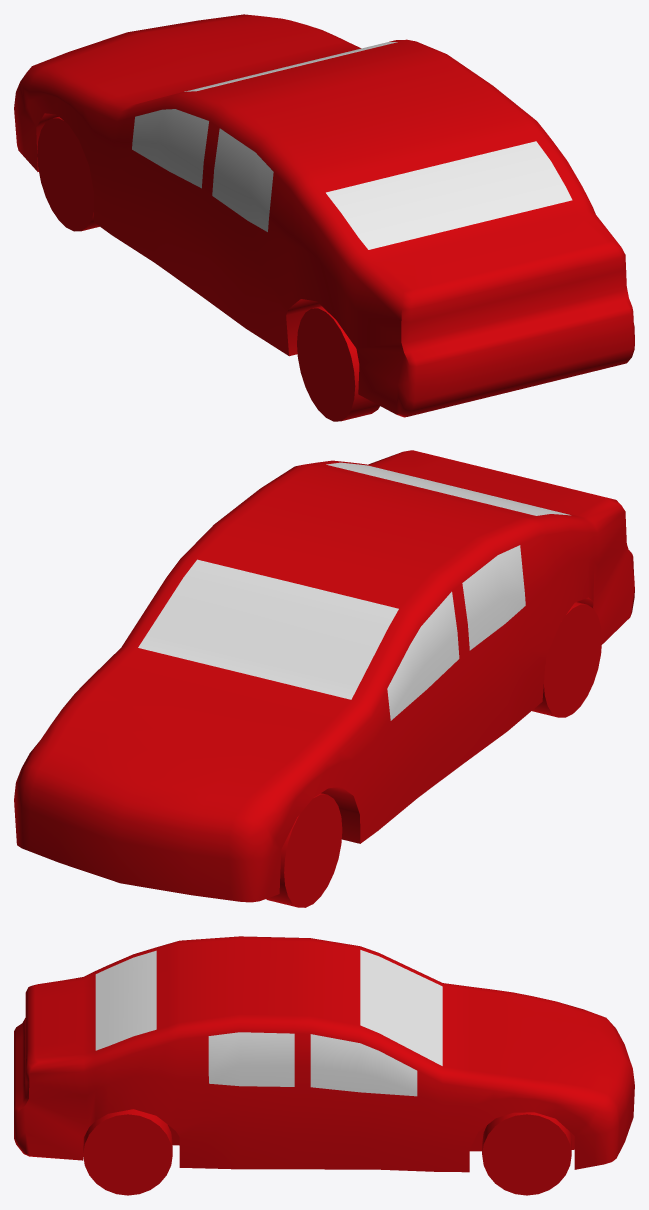
Rendered from default_car.fbx.
The picture shows the model from 3 angles, top to bottom: view 1: azimuth 30°, elevation 25°; view 2: azimuth 150°, elevation 25°; view 3: azimuth 270°, elevation 25°; orthographic projection. The views are drawn at different scales.
Parts seen in each view (by area): view 1: Cube; view 2: Cube; view 3: Cube.
Part boxes in pixels (<box>): Cube: <box>14,14,634,421</box>; Cube: <box>14,450,634,907</box>; Cube: <box>14,936,634,1195</box>.
Size of the model in its own units: 341 by 274 by 896.
